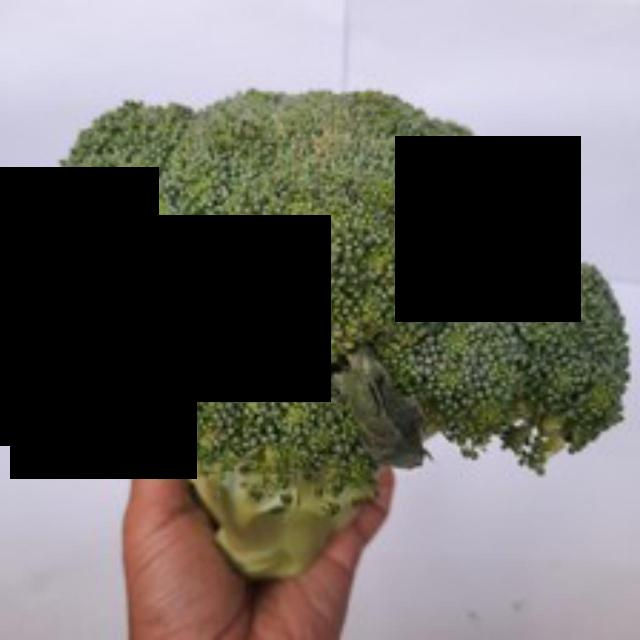broccoli: (51, 77, 637, 577)
